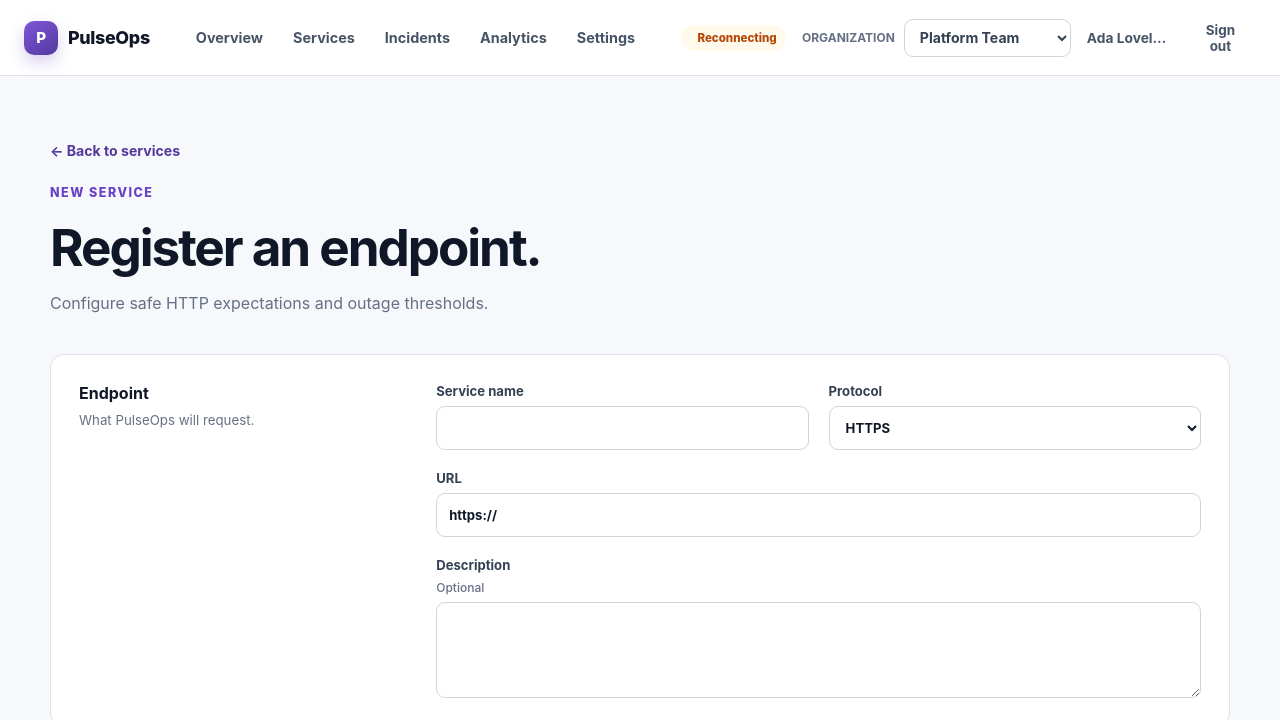
it: PulseOps service management › creates an HTTPS service and opens its details
Expected: the heading "Register an endpoint." is shown, [50, 216, 541, 278]
Type "Checkout API" into the field labelled "Service name". click: (622, 428)
box: [436, 406, 809, 450]
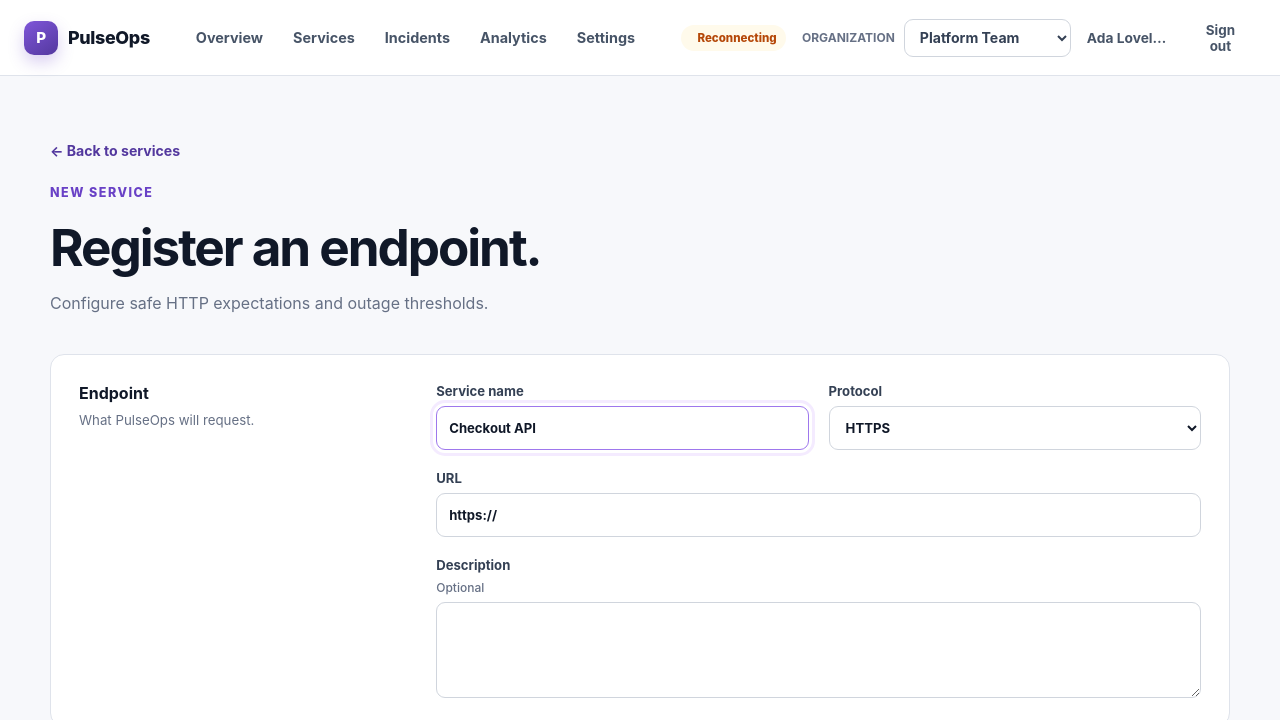
Replace the text in the field labelled "URL" with "https://checkout.example.com/health". click: (819, 515)
box: [436, 493, 1201, 537]
(page scrolled)
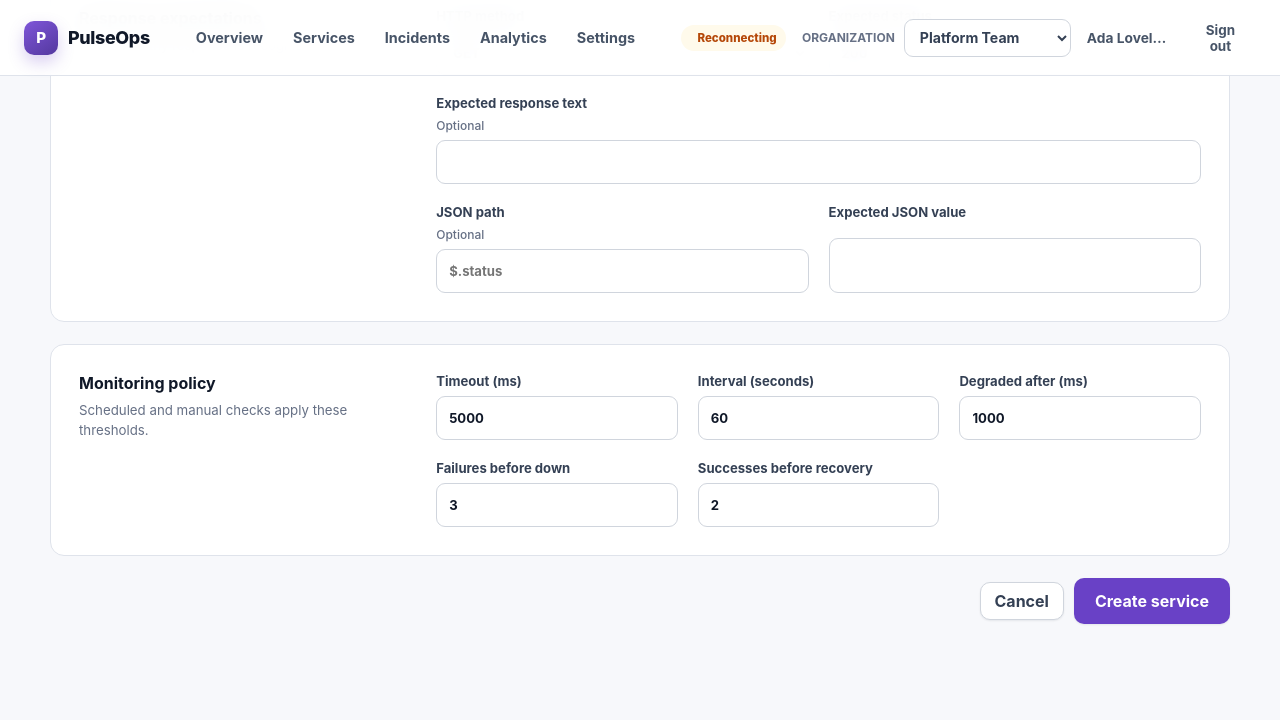
Click the button "Create service". click: (1152, 601)
box: [1074, 578, 1230, 624]
(page scrolled)
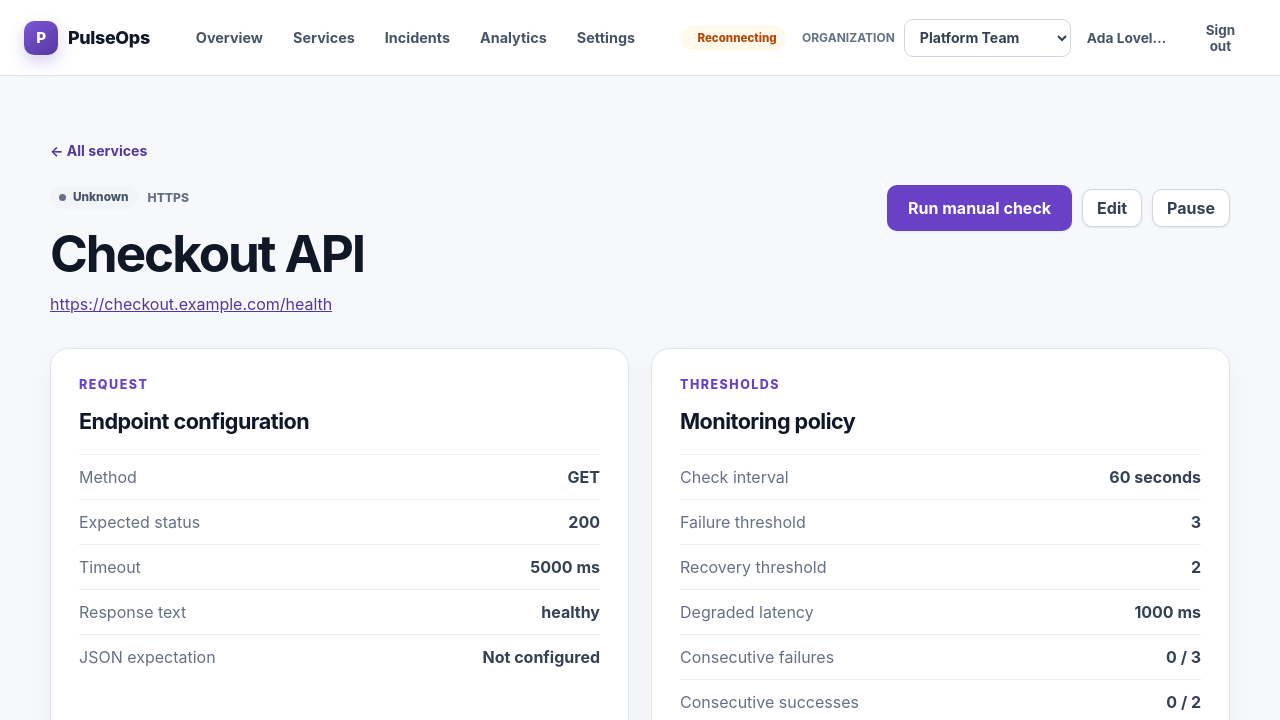
Expected: the heading "Checkout API" is shown, [50, 222, 364, 284]
